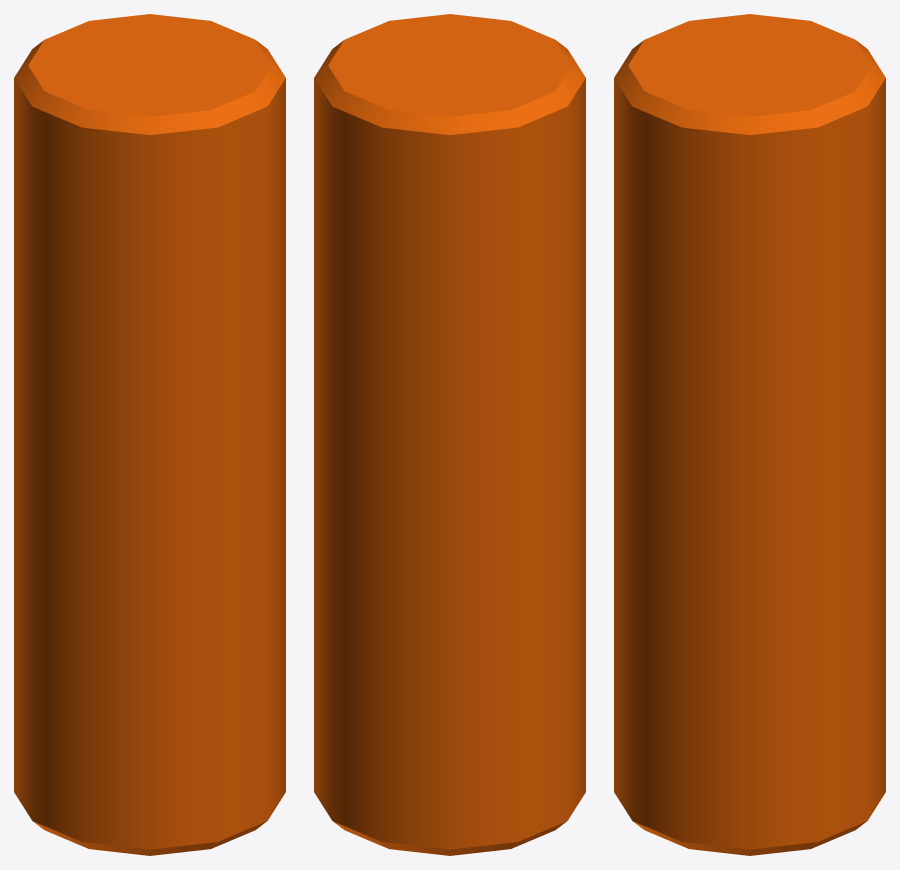
File: ThrowProp_BuildingBlock_CylinderL.FBX
The picture shows the model from 3 angles, left to right: view 1: azimuth 30°, elevation 25°; view 2: azimuth 150°, elevation 25°; view 3: azimuth 270°, elevation 25°; orthographic projection.
Visible parts, largest first — view 1: BuildingBlock_CylinderL; view 2: BuildingBlock_CylinderL; view 3: BuildingBlock_CylinderL.
Boxes of the visible parts, x1,y1,x2,y2 form: BuildingBlock_CylinderL: [14, 14, 285, 855]; BuildingBlock_CylinderL: [314, 14, 585, 855]; BuildingBlock_CylinderL: [614, 14, 885, 855].
Size of the model in its own units: 5 by 15 by 5.
1 material, 1 textured.
